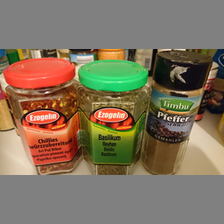spices: (3, 57, 80, 174), (143, 50, 213, 175), (77, 59, 151, 174)
